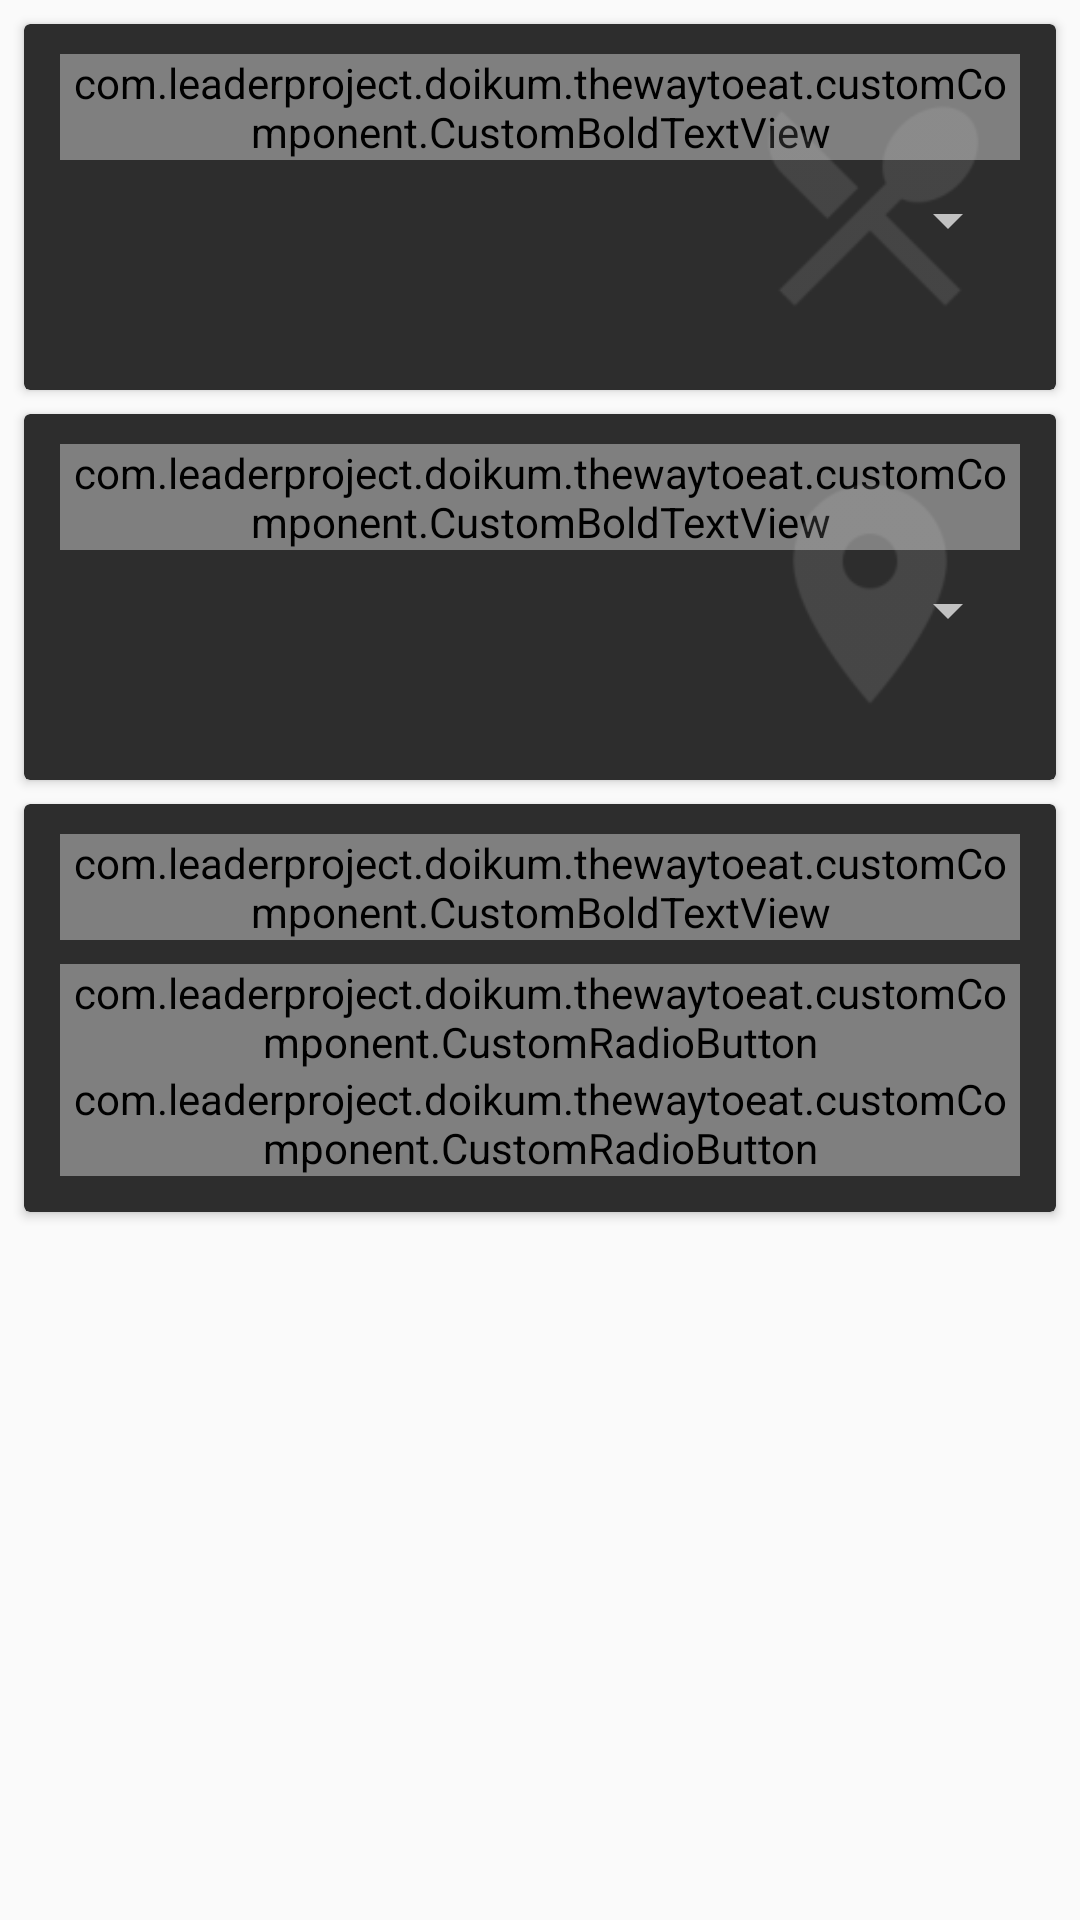

Icons on this 1080w x 1920h Android screen, each with its box as (x1, y1, x2, y2):
dinning: (720, 54, 1020, 301)
zone: (720, 444, 1020, 700)
